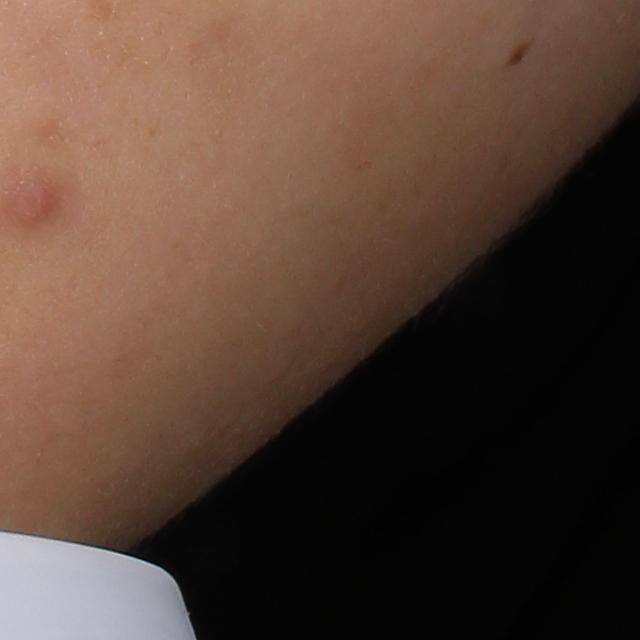nevus: (502, 40, 535, 71)
papule: (10, 178, 68, 227)
